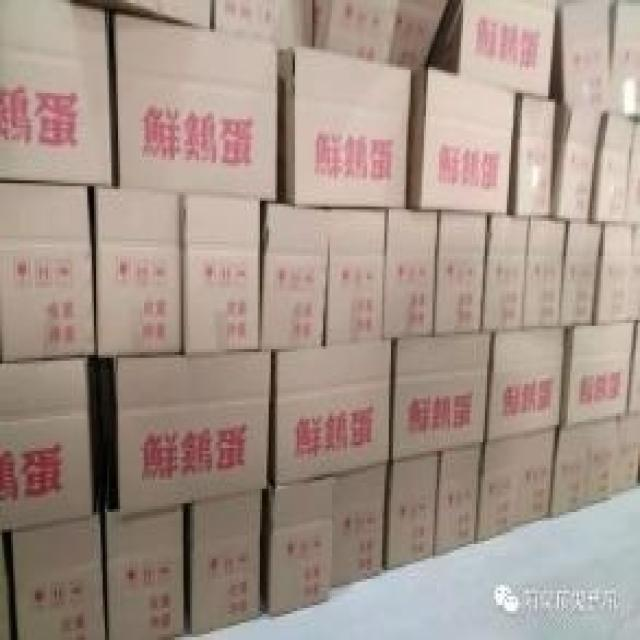box: (116, 15, 277, 198), (116, 352, 273, 515), (0, 0, 114, 183), (282, 47, 411, 207), (273, 340, 391, 483), (0, 358, 98, 529), (0, 183, 94, 361), (411, 67, 515, 212), (96, 186, 181, 355), (391, 332, 491, 460), (428, 0, 557, 96), (183, 195, 260, 352), (11, 515, 105, 640), (188, 489, 262, 637), (260, 201, 330, 349), (107, 506, 183, 640), (264, 477, 332, 617), (312, 0, 448, 70), (487, 329, 566, 442), (325, 209, 387, 346), (564, 323, 636, 425), (332, 463, 389, 588), (384, 209, 437, 337), (553, 0, 612, 108), (387, 451, 439, 570), (437, 212, 487, 335), (511, 93, 555, 218), (483, 215, 529, 332), (555, 108, 601, 221), (437, 442, 481, 556), (212, 0, 315, 47), (592, 111, 636, 221), (524, 221, 566, 329), (478, 436, 520, 541), (561, 221, 603, 326), (70, 0, 212, 29), (515, 428, 555, 527), (596, 224, 636, 323), (555, 425, 590, 515), (588, 416, 616, 506), (614, 410, 640, 495)
